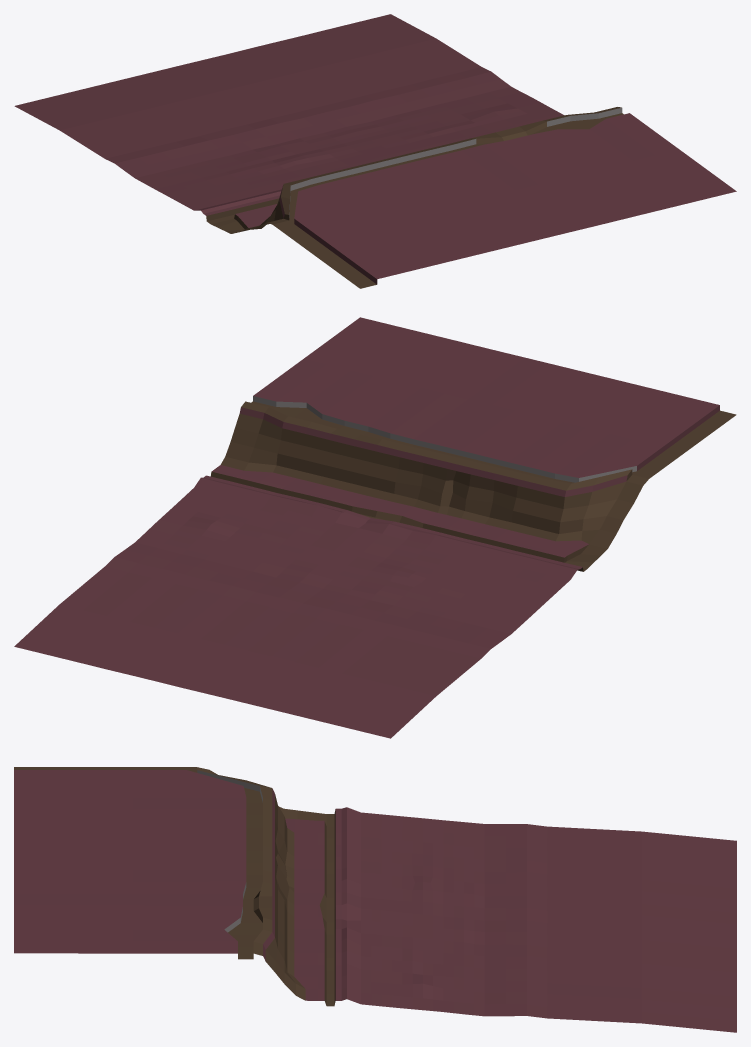
File: omaha.fbx
3 renders of one model, top to bottom at view 1: azimuth 30°, elevation 25°; view 2: azimuth 150°, elevation 25°; view 3: azimuth 270°, elevation 25°, orthographic. The views are drawn at different scales.
Visible parts, largest first — view 1: omaha; view 2: omaha; view 3: omaha.
Boxes of the visible parts, x1,y1,x2,y2 form: omaha: (14, 14, 736, 288); omaha: (14, 317, 736, 738); omaha: (14, 767, 736, 1032).
Size of the model in its own units: 114 by 22.12 by 182.
